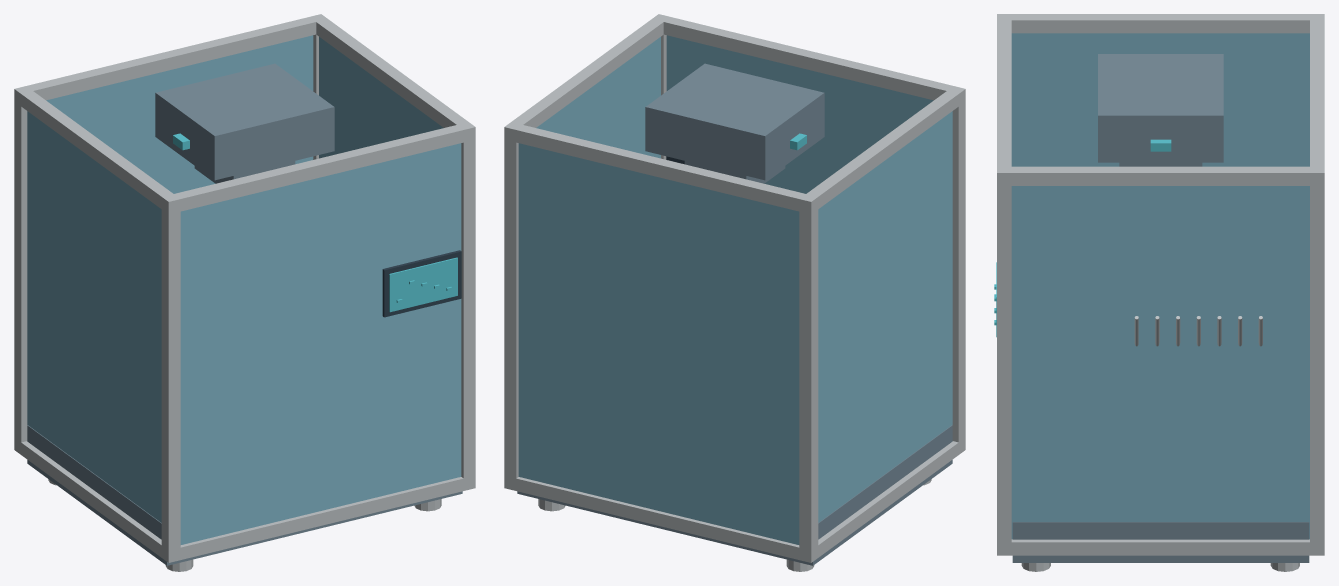
File: 48_L79_ScanningAcousticVoidInspector.glb
3 renders of one model, left to right at view 1: azimuth 30°, elevation 25°; view 2: azimuth 150°, elevation 25°; view 3: azimuth 270°, elevation 25°, orthographic. The views are drawn at different scales.
Parts seen in each view (by area): view 1: ScanningAcousticVoidInspector_Node_0030, ScanningAcousticVoidInspector_Node_0031, ScanningAcousticVoidInspector_Node_0066, ScanningAcousticVoidInspector_Node_0029, ScanningAcousticVoidInspector_Node_0018, ScanningAcousticVoidInspector_Node_0032, ScanningAcousticVoidInspector_Node_0026, ScanningAcousticVoidInspector_Node_0025, ScanningAcousticVoidInspector_Node_0020, ScanningAcousticVoidInspector_Node_0017, ScanningAcousticVoidInspector_Node_0022, ScanningAcousticVoidInspector_Node_0000 (+5 smaller); view 2: ScanningAcousticVoidInspector_Node_0029, ScanningAcousticVoidInspector_Node_0031, ScanningAcousticVoidInspector_Node_0066, ScanningAcousticVoidInspector_Node_0030, ScanningAcousticVoidInspector_Node_0017, ScanningAcousticVoidInspector_Node_0032, ScanningAcousticVoidInspector_Node_0025, ScanningAcousticVoidInspector_Node_0026, ScanningAcousticVoidInspector_Node_0019, ScanningAcousticVoidInspector_Node_0018, ScanningAcousticVoidInspector_Node_0021, ScanningAcousticVoidInspector_Node_0000 (+3 smaller); view 3: ScanningAcousticVoidInspector_Node_0032, ScanningAcousticVoidInspector_Node_0031, ScanningAcousticVoidInspector_Node_0066, ScanningAcousticVoidInspector_Node_0000, ScanningAcousticVoidInspector_Node_0028, ScanningAcousticVoidInspector_Node_0027, ScanningAcousticVoidInspector_Node_0019, ScanningAcousticVoidInspector_Node_0020, ScanningAcousticVoidInspector_Node_0024, ScanningAcousticVoidInspector_Node_0025, ScanningAcousticVoidInspector_Node_0026.
Boxes of the visible parts, x1,y1,x2,y2 form: ScanningAcousticVoidInspector_Node_0030: (180, 143, 461, 544); ScanningAcousticVoidInspector_Node_0031: (27, 111, 161, 522); ScanningAcousticVoidInspector_Node_0066: (155, 63, 334, 180); ScanningAcousticVoidInspector_Node_0029: (46, 35, 313, 193); ScanningAcousticVoidInspector_Node_0018: (161, 194, 180, 562); ScanningAcousticVoidInspector_Node_0032: (319, 37, 443, 158); ScanningAcousticVoidInspector_Node_0026: (162, 122, 474, 213); ScanningAcousticVoidInspector_Node_0025: (14, 14, 326, 105); ScanningAcousticVoidInspector_Node_0020: (457, 122, 475, 490); ScanningAcousticVoidInspector_Node_0017: (14, 86, 31, 454); ScanningAcousticVoidInspector_Node_0022: (161, 476, 475, 562); ScanningAcousticVoidInspector_Node_0000: (27, 425, 462, 565); ScanningAcousticVoidInspector_Node_0029: (518, 143, 799, 544); ScanningAcousticVoidInspector_Node_0031: (818, 111, 952, 522); ScanningAcousticVoidInspector_Node_0066: (645, 63, 824, 180); ScanningAcousticVoidInspector_Node_0030: (666, 35, 933, 193); ScanningAcousticVoidInspector_Node_0017: (799, 194, 818, 562); ScanningAcousticVoidInspector_Node_0032: (536, 37, 660, 158); ScanningAcousticVoidInspector_Node_0025: (504, 122, 818, 213); ScanningAcousticVoidInspector_Node_0026: (653, 14, 965, 105); ScanningAcousticVoidInspector_Node_0019: (504, 122, 522, 490); ScanningAcousticVoidInspector_Node_0018: (947, 86, 965, 454); ScanningAcousticVoidInspector_Node_0021: (504, 477, 818, 562); ScanningAcousticVoidInspector_Node_0000: (517, 425, 952, 565); ScanningAcousticVoidInspector_Node_0032: (1011, 186, 1309, 539); ScanningAcousticVoidInspector_Node_0031: (1011, 33, 1309, 166); ScanningAcousticVoidInspector_Node_0066: (1098, 54, 1223, 162); ScanningAcousticVoidInspector_Node_0000: (1012, 522, 1309, 562); ScanningAcousticVoidInspector_Node_0028: (997, 166, 1323, 185); ScanningAcousticVoidInspector_Node_0027: (997, 14, 1324, 33); ScanningAcousticVoidInspector_Node_0019: (1310, 166, 1324, 555); ScanningAcousticVoidInspector_Node_0020: (997, 166, 1011, 555); ScanningAcousticVoidInspector_Node_0024: (997, 539, 1322, 555); ScanningAcousticVoidInspector_Node_0025: (1310, 14, 1324, 185); ScanningAcousticVoidInspector_Node_0026: (997, 14, 1011, 185).
Bounding box in the file's own units: 2.3 × 2.67 × 1.92.
